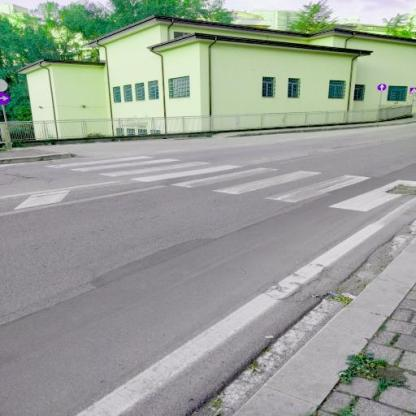crosswalk: (206, 168, 377, 206)
